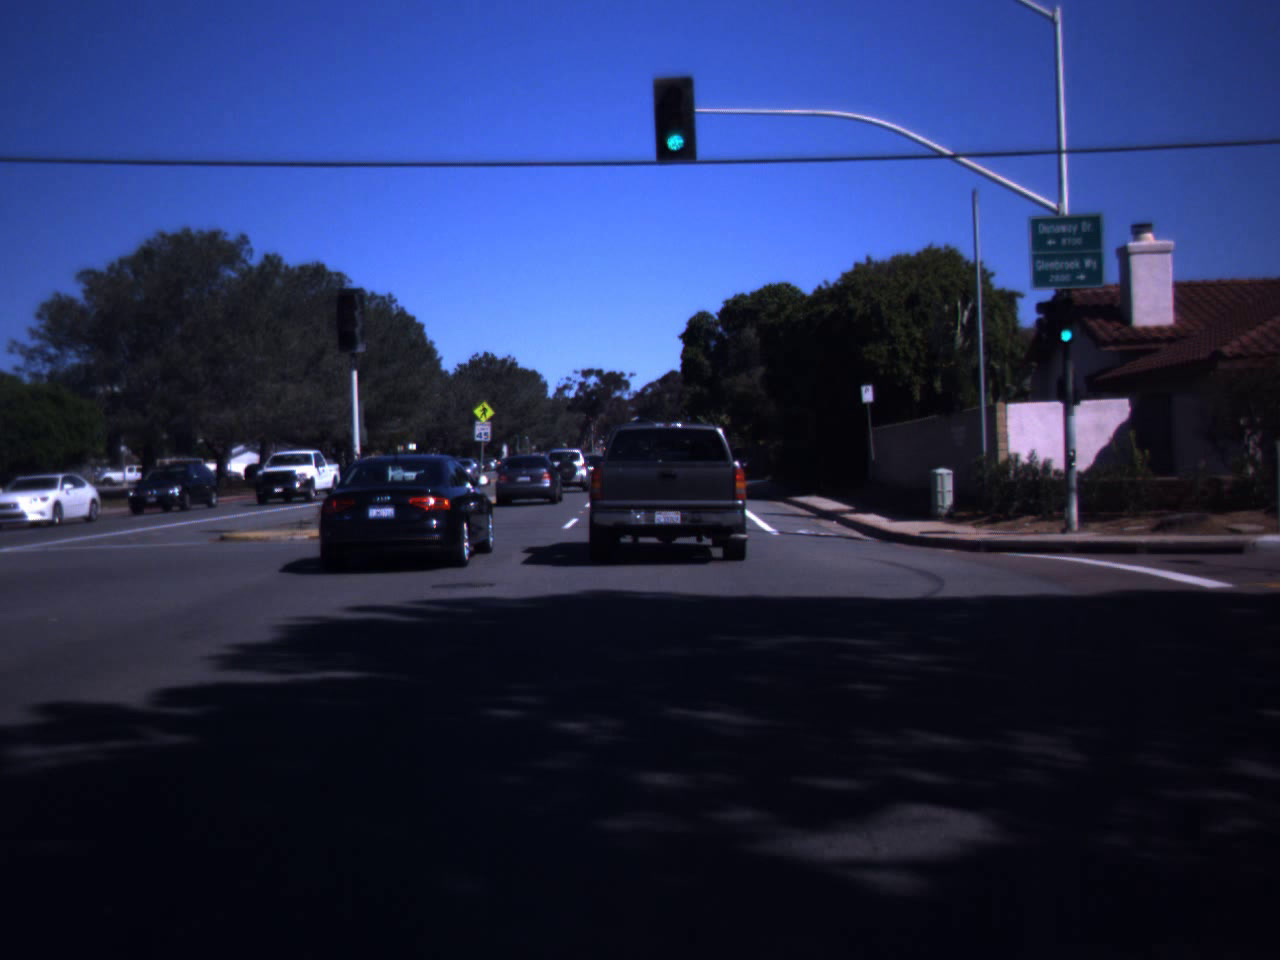go: (655, 56, 697, 121), (1095, 288, 1119, 328)
